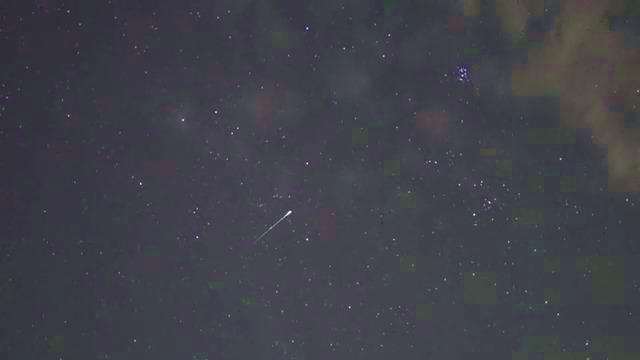meteorite: (238, 203, 312, 246)
